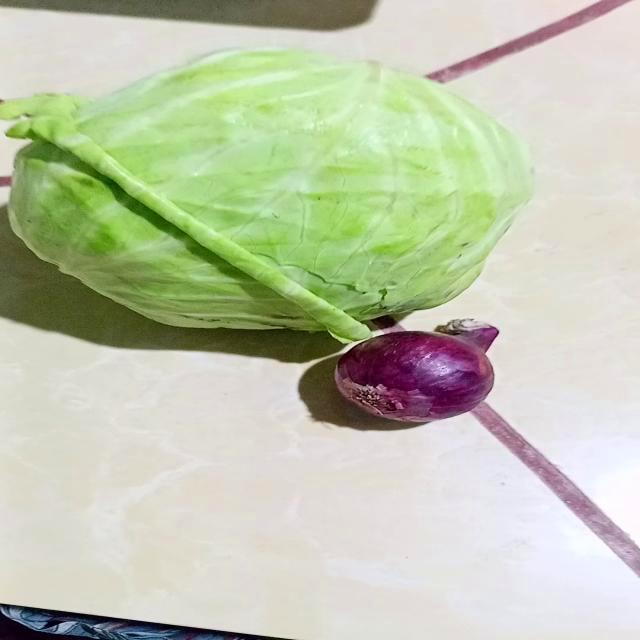cabbage: (0, 50, 529, 346)
onion: (334, 325, 497, 419)
